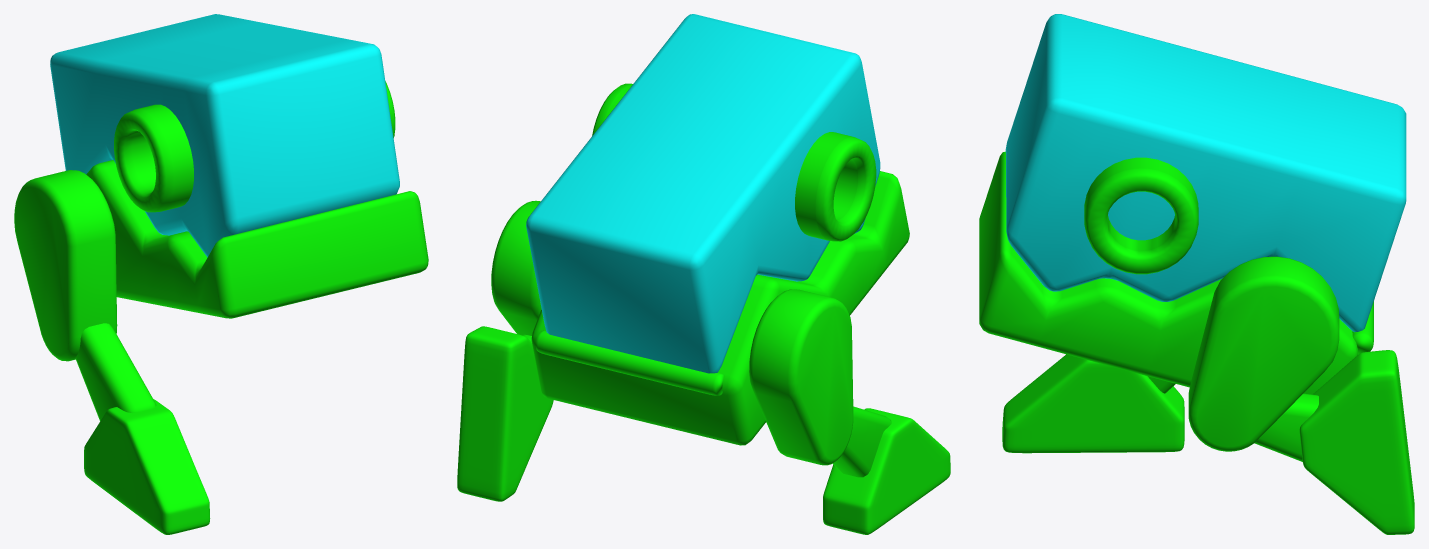
3 views of the same model, side by side, from view 1: azimuth 30°, elevation 25°; view 2: azimuth 150°, elevation 25°; view 3: azimuth 270°, elevation 25° (orthographic). The views are drawn at different scales.
Visible parts, largest first — view 1: Top_Jaw, Lower_Jaw, Thighs_Left, Feet_Left, Eyes, Shin_Left; view 2: Top_Jaw, Lower_Jaw, Thighs_Left, Feet_Right, Feet_Left, Eyes, Thighs_Right, Hinge, Shin_Left; view 3: Top_Jaw, Lower_Jaw, Thighs_Right, Feet_Right, Feet_Left, Eyes, Shin_Right, Hinge.
Boxes of the visible parts, left/top/right/bottom form: Top_Jaw: left=50, top=14, right=399, bottom=257; Lower_Jaw: left=86, top=160, right=428, bottom=318; Thighs_Left: left=14, top=170, right=117, bottom=361; Feet_Left: left=84, top=399, right=210, bottom=534; Eyes: left=114, top=81, right=395, bottom=212; Shin_Left: left=75, top=323, right=156, bottom=420; Top_Jaw: left=526, top=14, right=880, bottom=373; Lower_Jaw: left=531, top=171, right=909, bottom=445; Thighs_Left: left=749, top=289, right=853, bottom=465; Feet_Right: left=457, top=326, right=553, bottom=501; Feet_Left: left=823, top=408, right=950, bottom=534; Eyes: left=592, top=83, right=876, bottom=241; Thighs_Right: left=491, top=200, right=541, bottom=335; Hinge: left=535, top=330, right=724, bottom=395; Shin_Left: left=832, top=406, right=891, bottom=477; Top_Jaw: left=1005, top=14, right=1406, bottom=332; Lower_Jaw: left=979, top=151, right=1357, bottom=394; Thighs_Right: left=1188, top=256, right=1339, bottom=451; Feet_Right: left=1299, top=350, right=1414, bottom=534; Feet_Left: left=1002, top=354, right=1184, bottom=453; Eyes: left=1084, top=157, right=1198, bottom=274; Shin_Right: left=1254, top=393, right=1318, bottom=461; Hinge: left=1352, top=301, right=1373, bottom=354.
Bounding box in the file's own units: 2.03 × 2.67 × 2.32.
